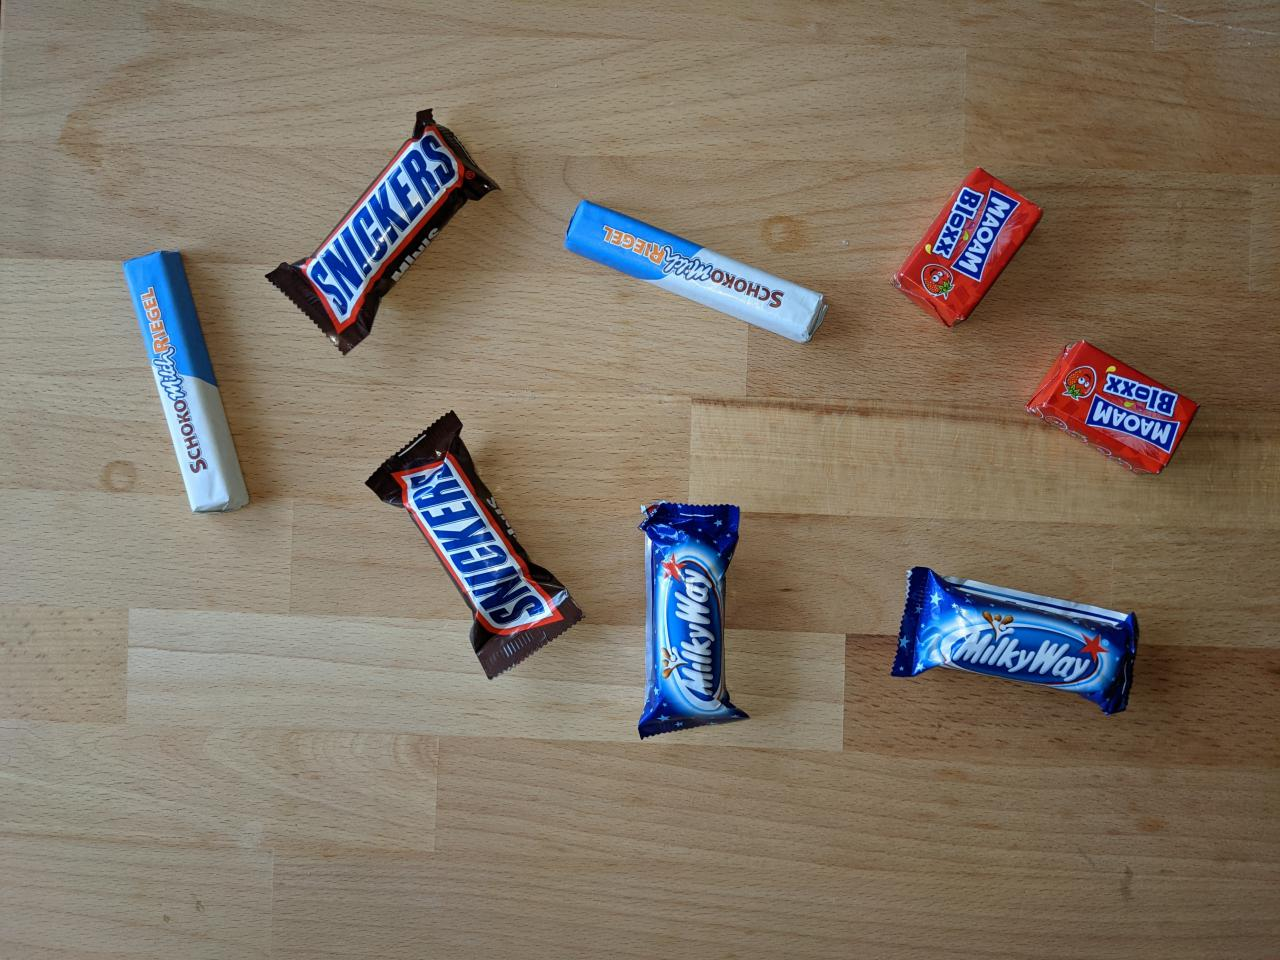MAOAM: (882, 165, 1049, 332), (1020, 336, 1203, 483)
MilkyWay: (886, 563, 1142, 724), (631, 496, 754, 748)
Schokoriegel: (556, 194, 833, 349), (115, 246, 256, 524)
Snickers: (255, 101, 506, 360), (361, 405, 593, 685)
